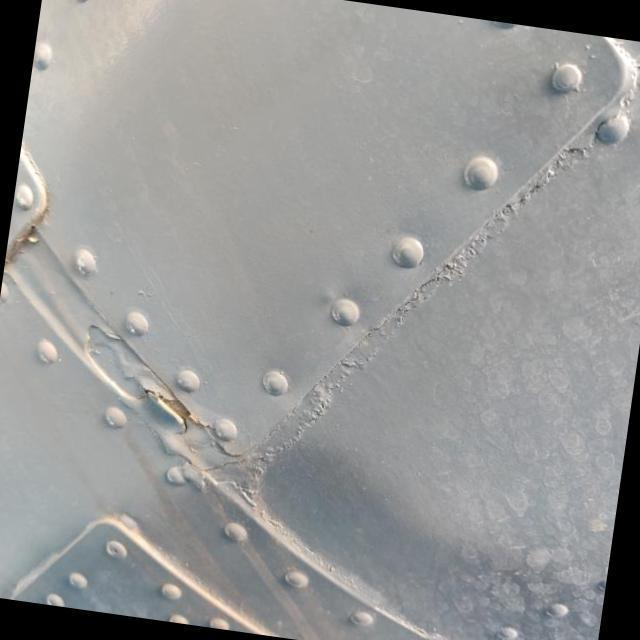Rupture: (123, 384, 225, 450)
